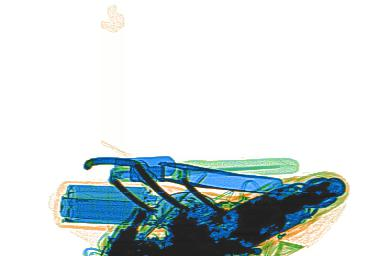battery: (57, 182, 149, 224)
